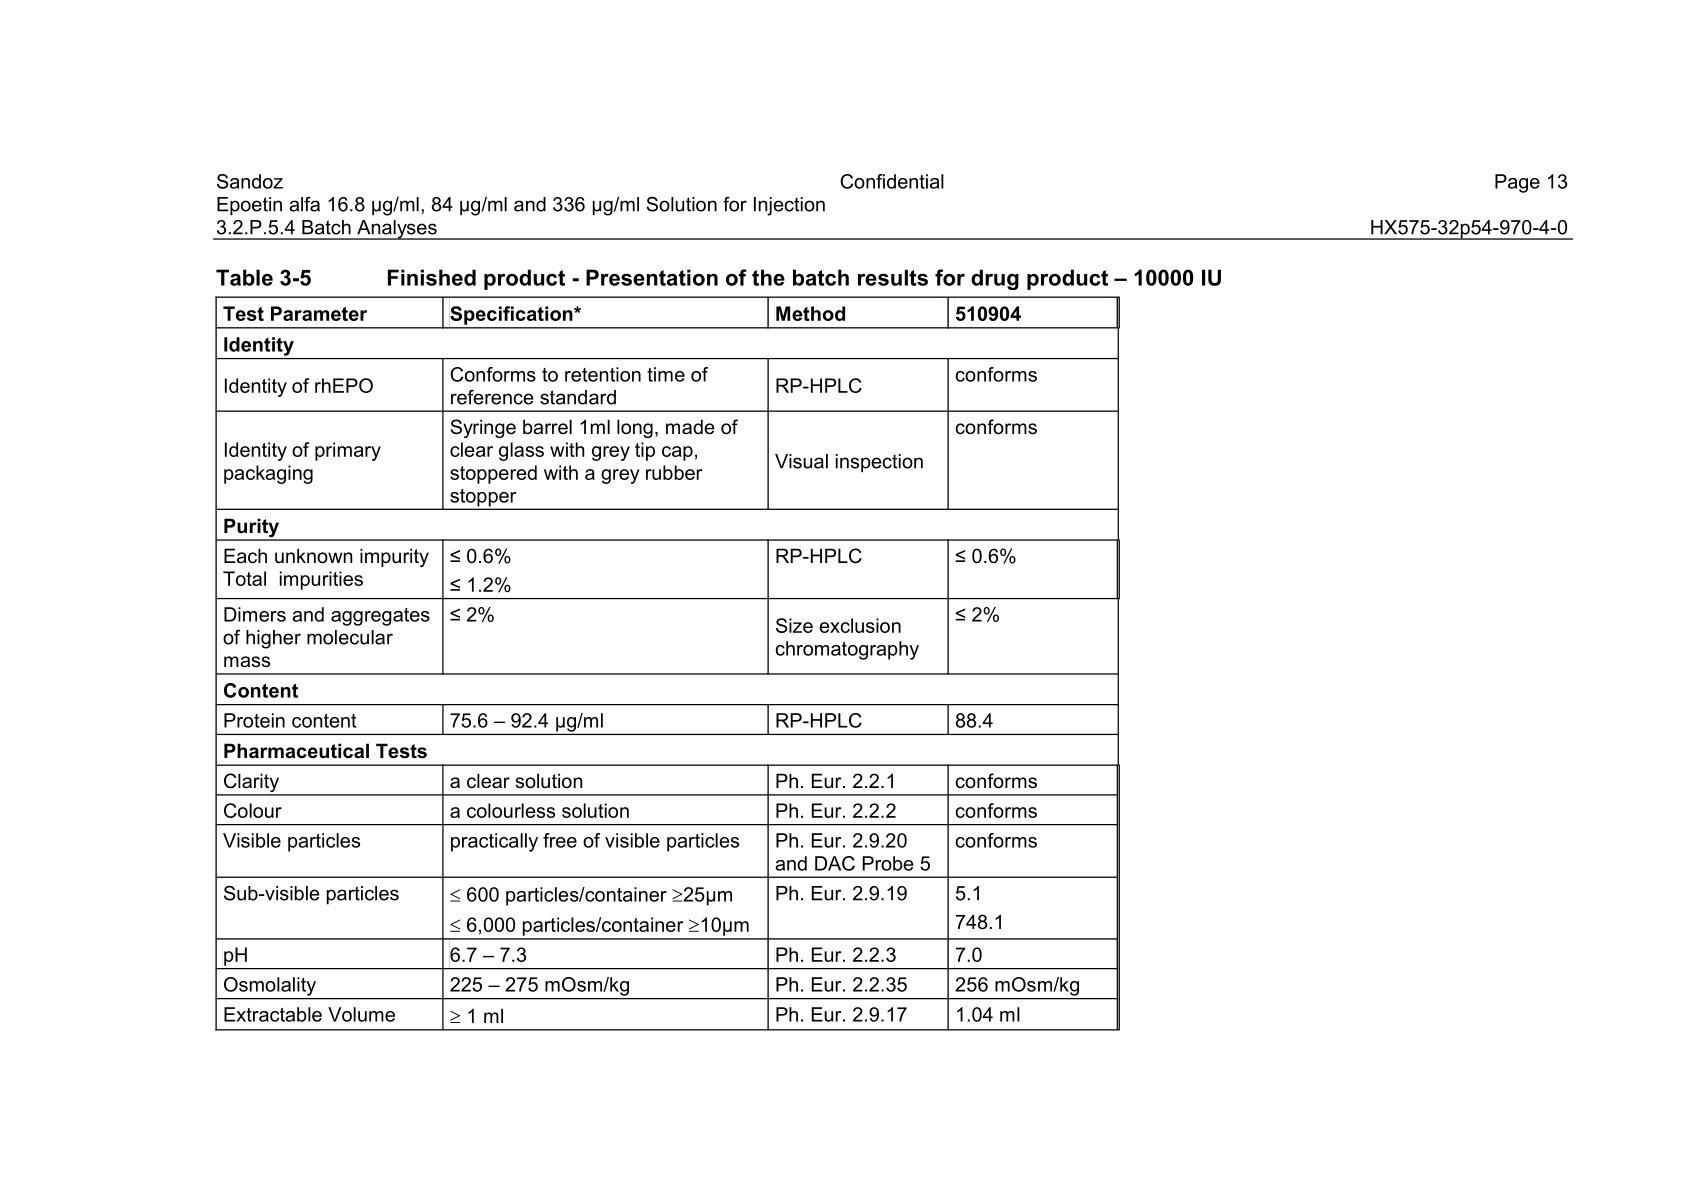merged_cells: (213, 294, 1121, 1031)
